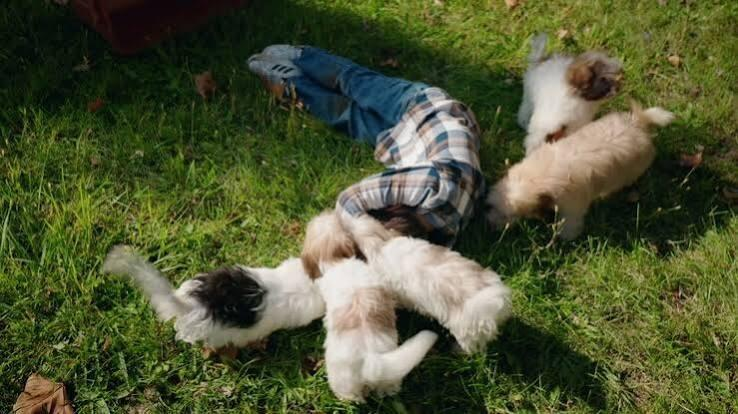non-dog: (247, 44, 488, 249)
puppy-dog: (484, 95, 678, 249), (300, 210, 438, 402), (342, 210, 514, 360), (101, 243, 324, 354), (515, 30, 627, 161)
